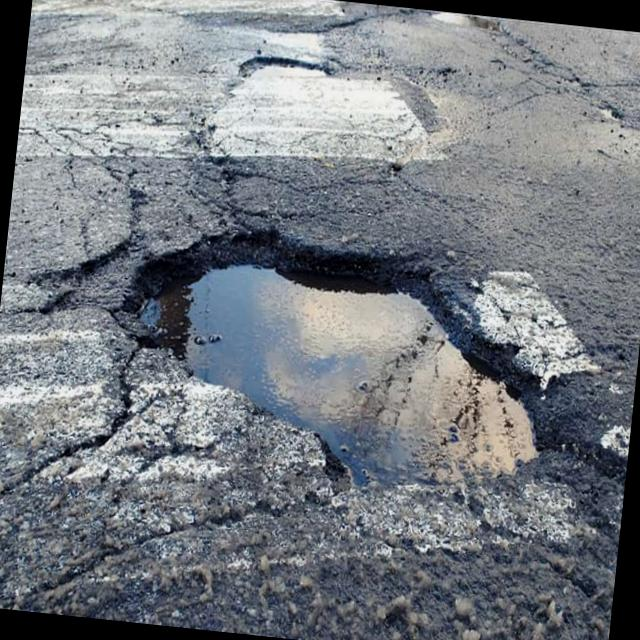bad-road: (91, 206, 585, 520), (23, 235, 112, 323)
